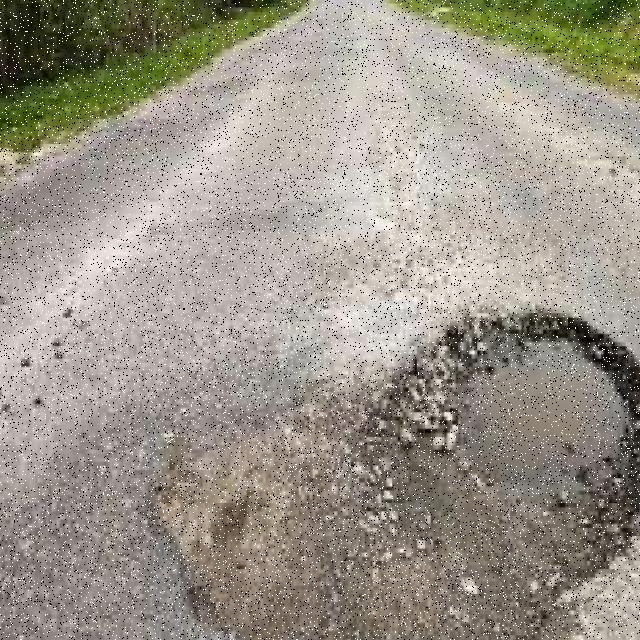pothole: (156, 305, 640, 640)
